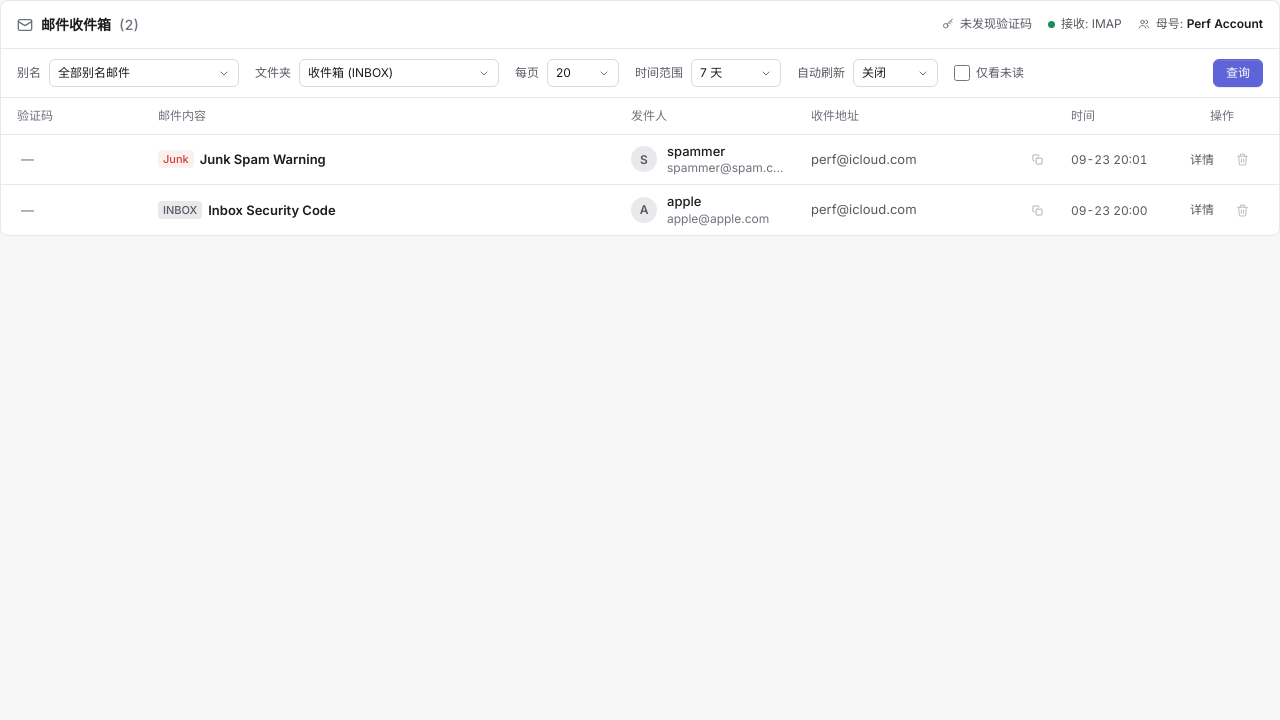
Scenario: Inbox Baseline Performance Measurements › only backfills body by canonical MessageRef and never by bare UID or id (INBOX vs Junk same UID)
Expected: the button "Inbox Security Code" is shown, [208,201,336,219]
// 点击 Junk 邮件拉取单封正文
Click the button "Junk Spam Warning": coordinates (263, 159) [200,150,326,168]
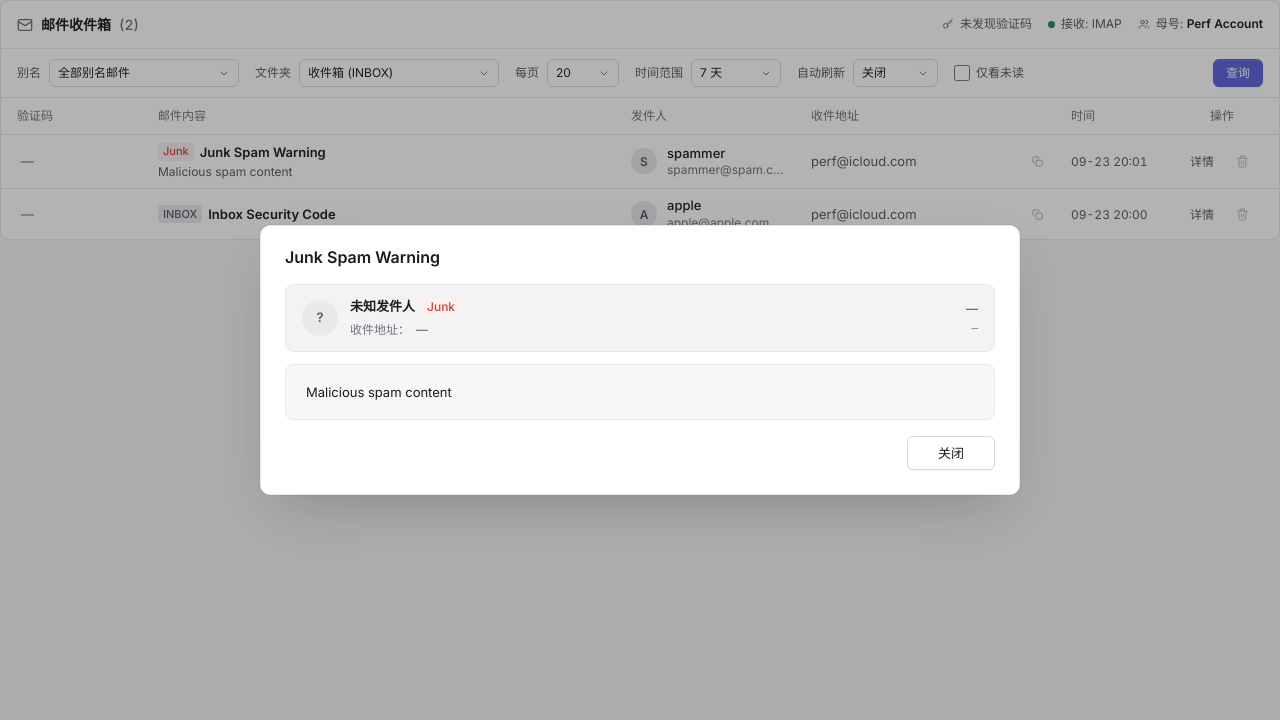
Expected: the button "Inbox Security Code" does not show "Malicious spam content", [1,189,1279,239]
Now the text "Malicious spam content" is shown, box [285,364,995,420]
Now the button "Junk Spam Warning" shows "Malicious spam content", box [1,134,1279,189]
